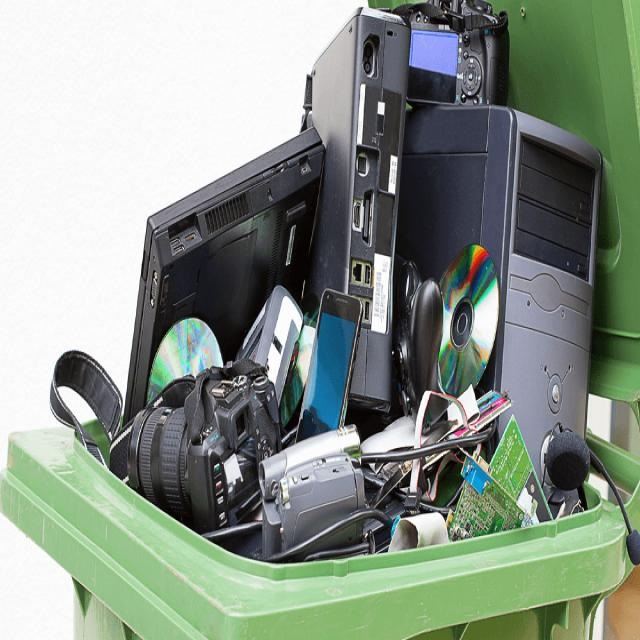heap: (114, 113, 620, 529)
